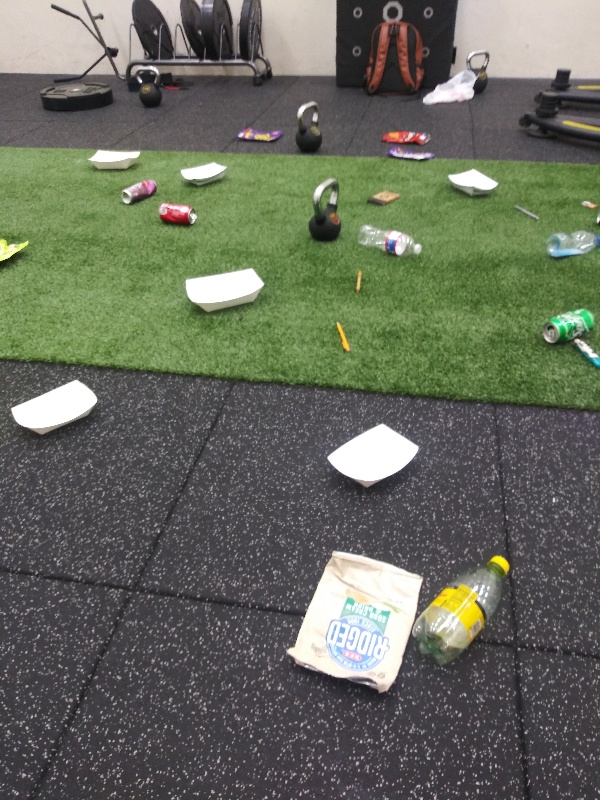bag: (281, 544, 431, 706), (1, 229, 36, 274), (375, 126, 434, 146), (232, 123, 283, 144), (385, 142, 438, 162)
bottle: (410, 554, 518, 673), (355, 222, 429, 263), (543, 224, 600, 259)
can: (538, 305, 595, 349), (153, 199, 201, 229), (119, 178, 162, 206)
plate: (318, 421, 438, 494), (6, 375, 109, 438), (179, 262, 267, 316), (438, 166, 503, 203), (177, 157, 232, 192), (87, 147, 143, 172)
